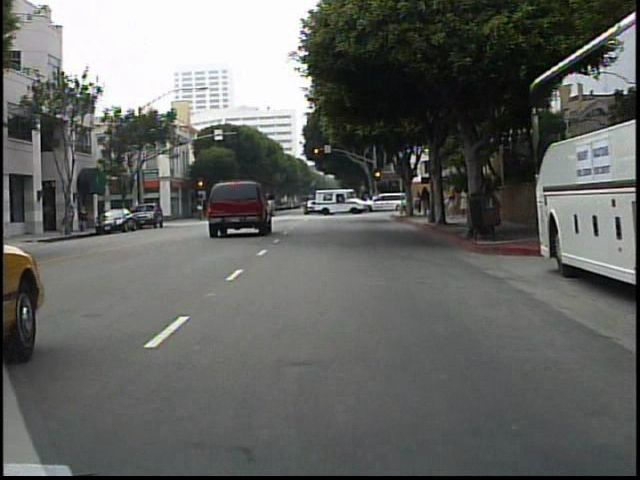person: (446, 183, 462, 222), (460, 181, 470, 219)
